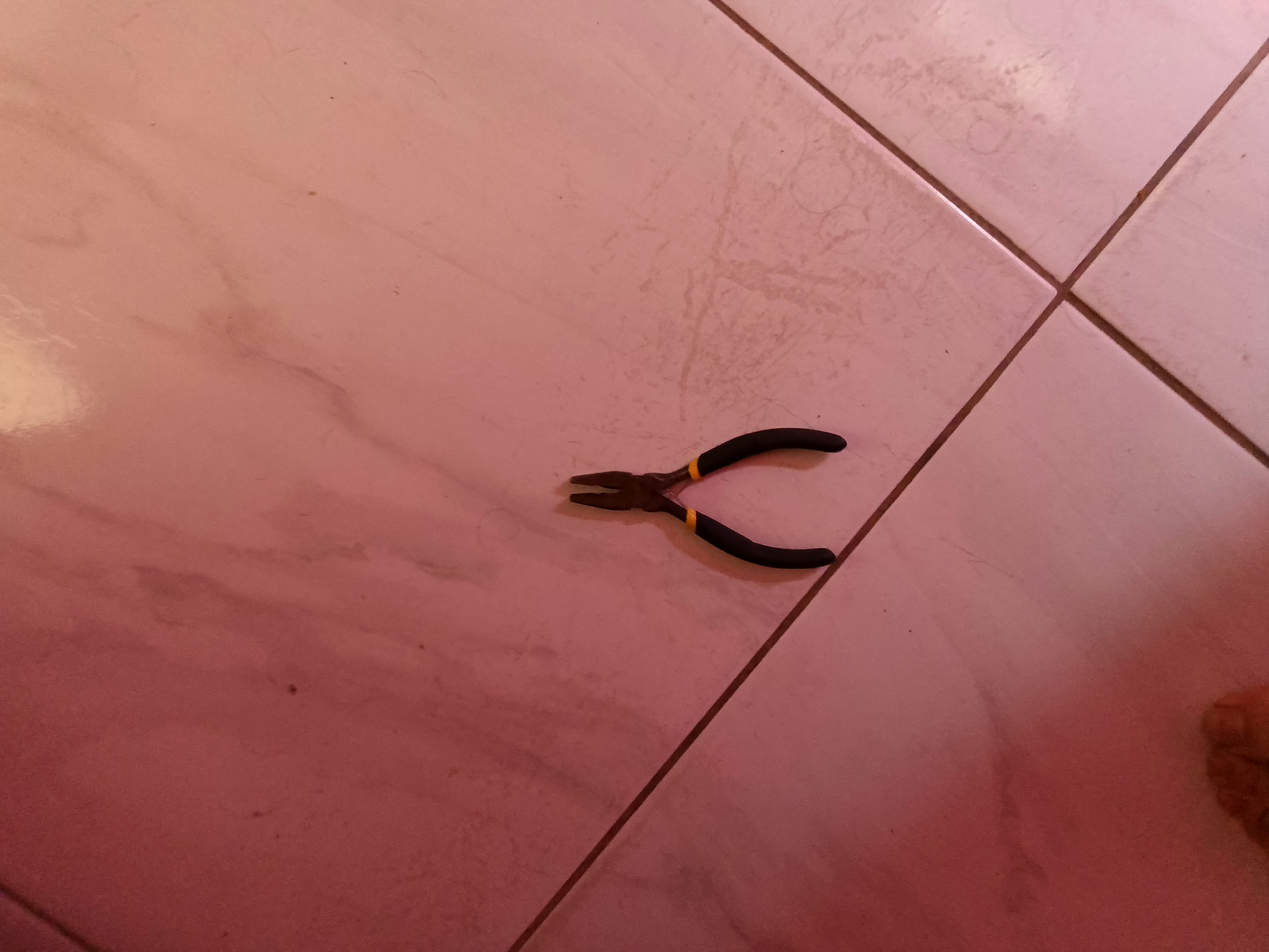Pinzas: (570, 428, 846, 569)
